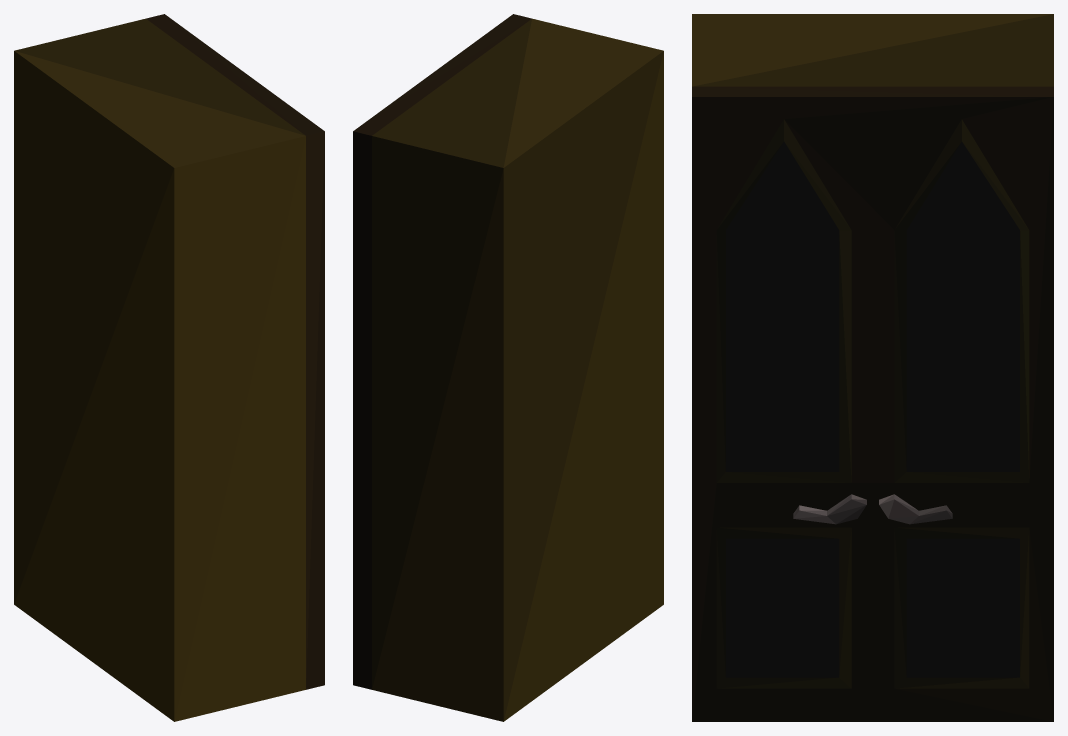
File: cabinet.obj
3 views of the same model, side by side, from view 1: azimuth 30°, elevation 25°; view 2: azimuth 150°, elevation 25°; view 3: azimuth 270°, elevation 25° (orthographic). The views are drawn at different scales.
Visible parts, largest first — view 1: Object Cabinet 2026-09-21_11-29-14; view 2: Object Cabinet 2026-09-21_11-29-14; view 3: Object Cabinet 2026-09-21_11-29-14.
Boxes of the visible parts, x1,y1,x2,y2 form: Object Cabinet 2026-09-21_11-29-14: (14,14,324,721); Object Cabinet 2026-09-21_11-29-14: (353,14,663,721); Object Cabinet 2026-09-21_11-29-14: (692,14,1053,721).
Bounding box in the file's own units: 68 × 225 × 118.
